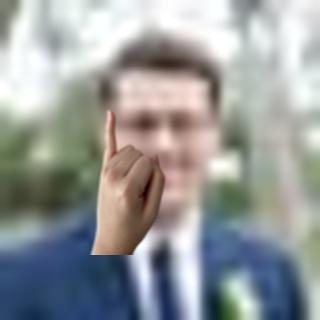Fine: (87, 103, 168, 269)
